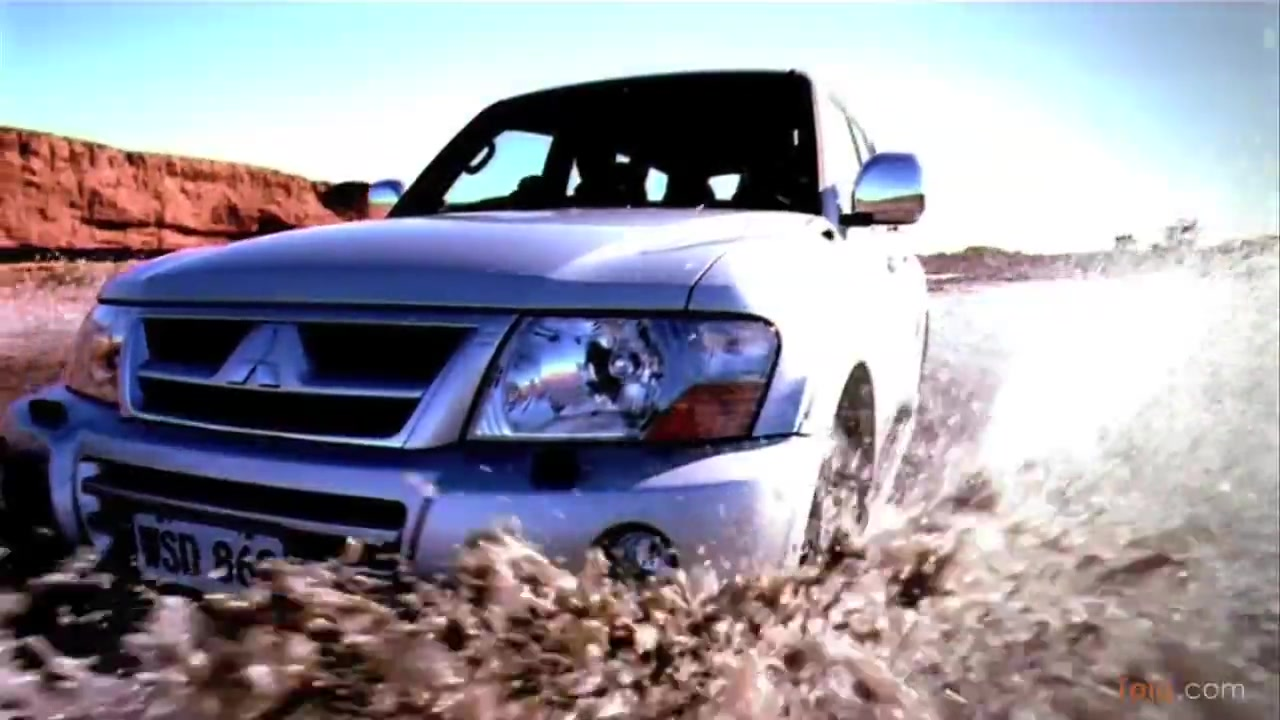car: (7, 66, 936, 627)
